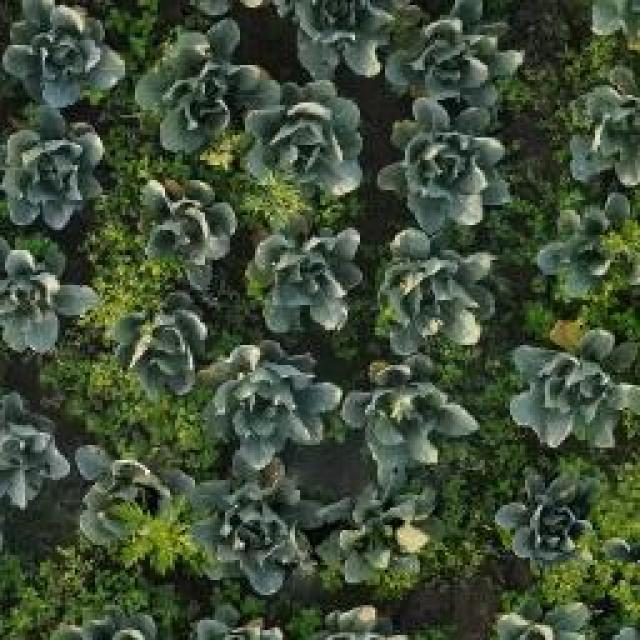cabbage: (188, 459, 322, 593), (238, 71, 370, 203), (133, 15, 252, 159), (244, 219, 379, 338), (0, 104, 115, 238), (72, 436, 197, 556), (510, 338, 640, 451), (354, 362, 475, 482), (132, 172, 250, 291), (0, 0, 128, 108), (323, 482, 445, 593), (385, 98, 497, 218), (218, 340, 328, 458), (385, 242, 495, 360), (108, 288, 221, 398), (535, 188, 640, 302), (387, 0, 517, 92), (495, 469, 608, 572), (0, 244, 103, 354), (0, 382, 75, 518), (277, 0, 395, 73), (567, 75, 640, 185)
